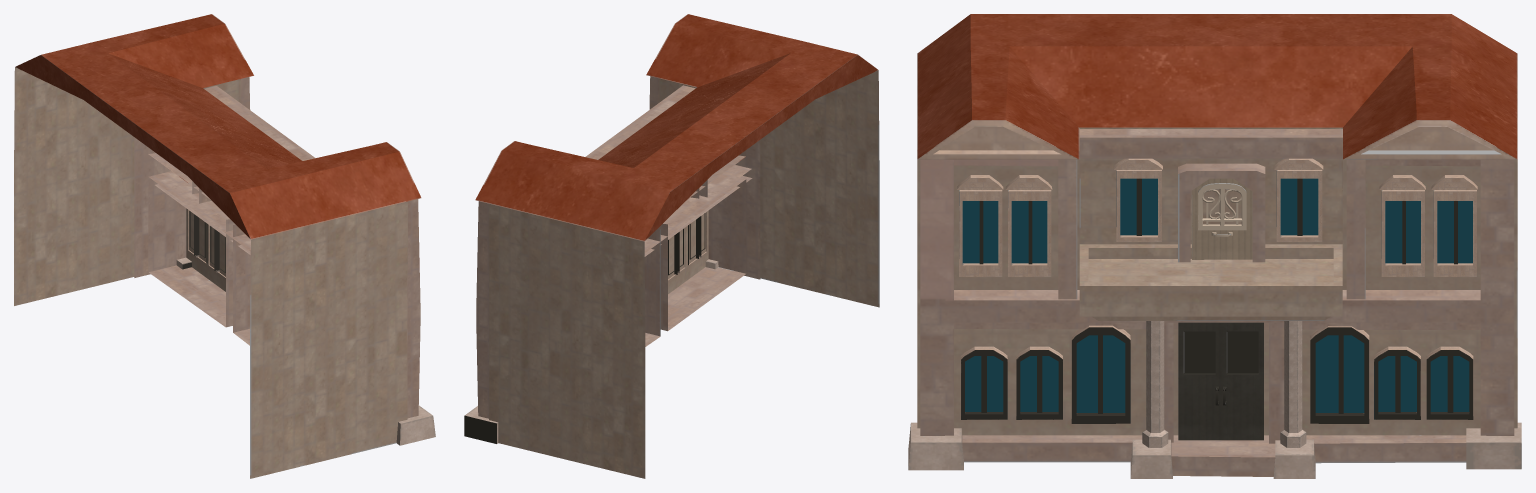
The model's file is Bat_VieuxPort_1.fbx.
3 views of the same model, side by side, from view 1: azimuth 30°, elevation 25°; view 2: azimuth 150°, elevation 25°; view 3: azimuth 270°, elevation 25° (orthographic). The views are drawn at different scales.
Visible parts, largest first — view 1: Bat_VieuxP_1; view 2: Bat_VieuxP_1; view 3: Bat_VieuxP_1.
Boxes of the visible parts, box(x1,y1,x2,y2) form: Bat_VieuxP_1: box(14, 14, 435, 478); Bat_VieuxP_1: box(464, 14, 879, 478); Bat_VieuxP_1: box(908, 14, 1521, 478).
Bounding box in the file's own units: 767 × 1009 × 1632.
